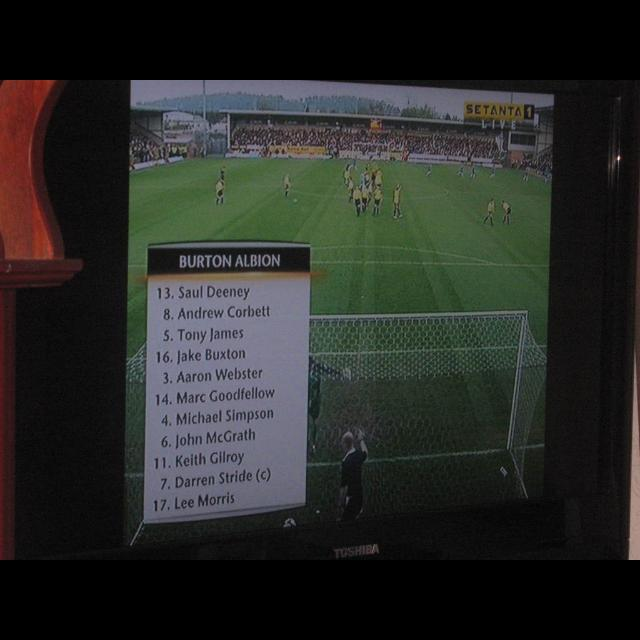Football: (281, 514, 299, 530), (292, 196, 298, 204)
